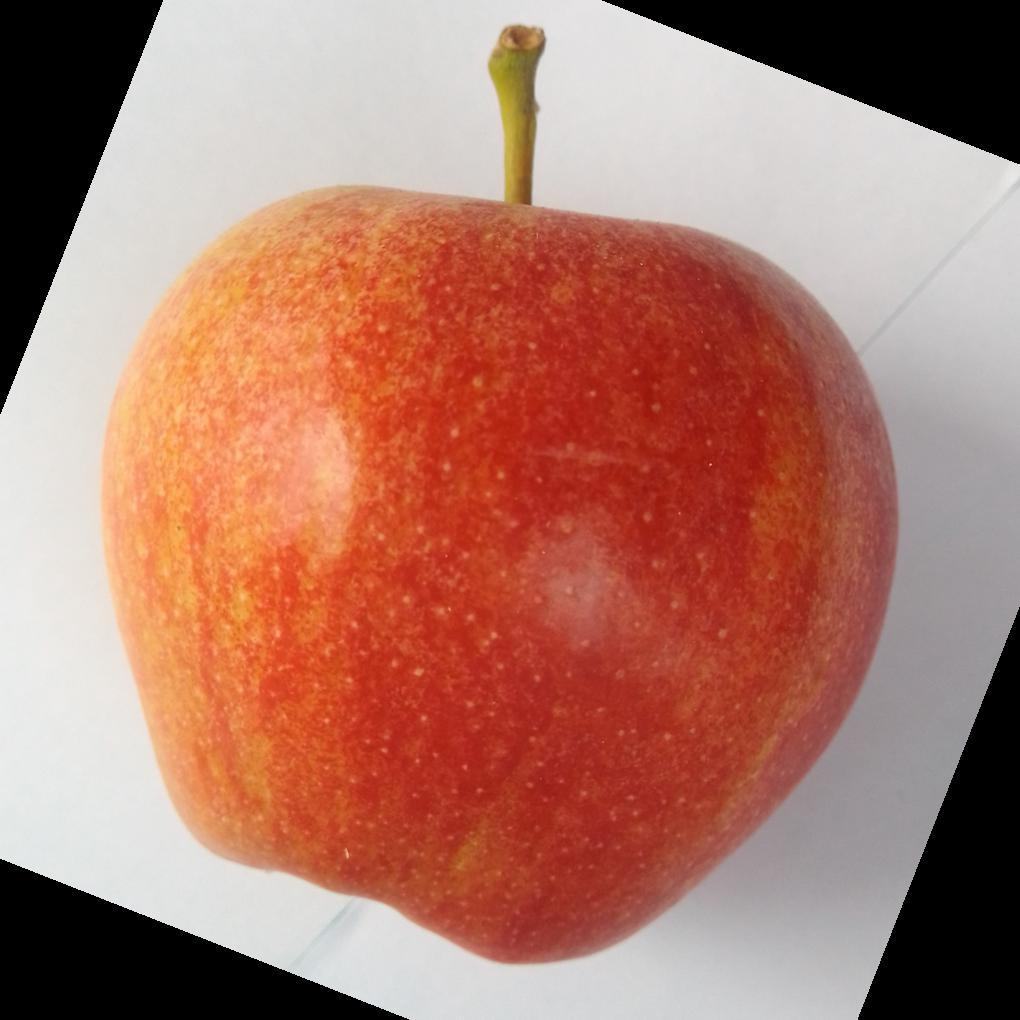FreshGuava: (96, 186, 901, 971)
